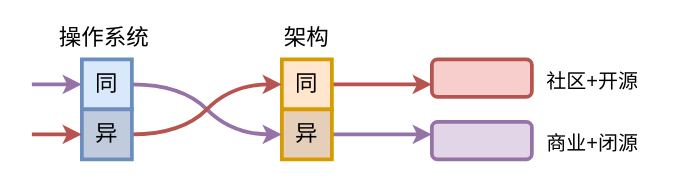
This 679x183 diagram has some shape labels left out. The shapes that lost their labels are listed below. From the top down, each one's centre as x and y in pixels, then its label:
At pixel 481 77: "Wine".
At pixel 481 140: "FX!32".
